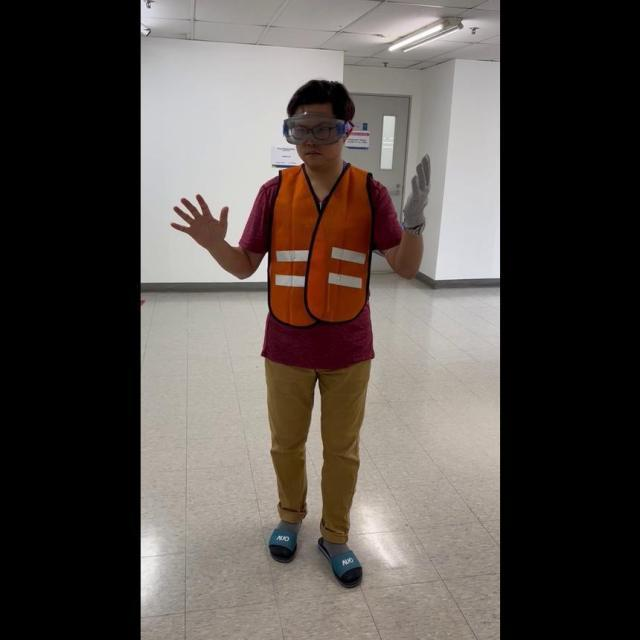bare_hand: (168, 188, 230, 246)
gloved_hand: (399, 150, 432, 236)
